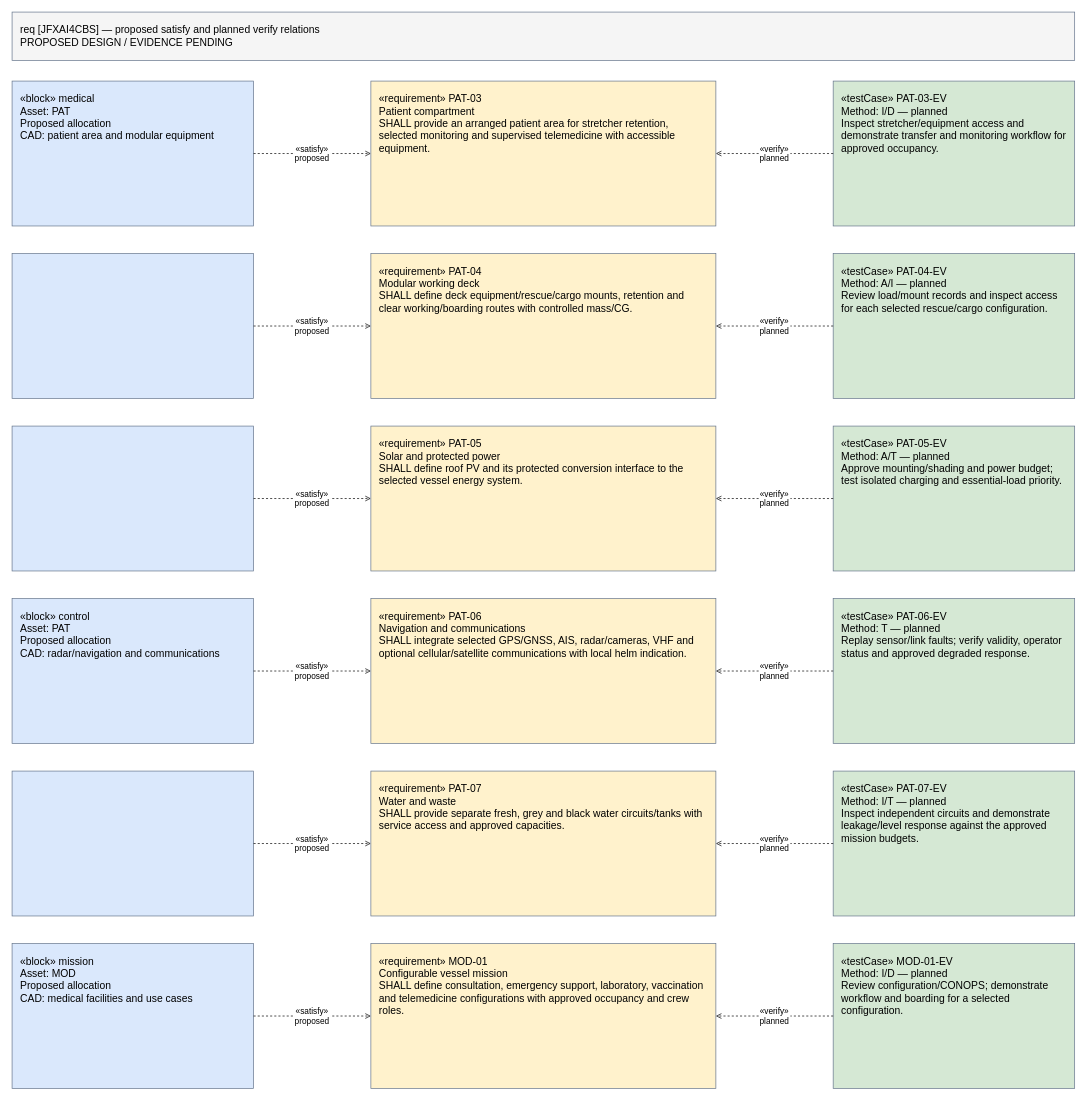
This 1087x1101 diagram has some shape labels left out. The centre of each missing label's shape, as x and y in pixels:
«block» energy Asset: PAT Proposed allocation CAD: solar panels: the point at 132,498
«block» medical Asset: PAT Proposed allocation CAD: water/waste: the point at 132,843
«block» mission Asset: PAT Proposed allocation CAD: modular deck: the point at 132,325
